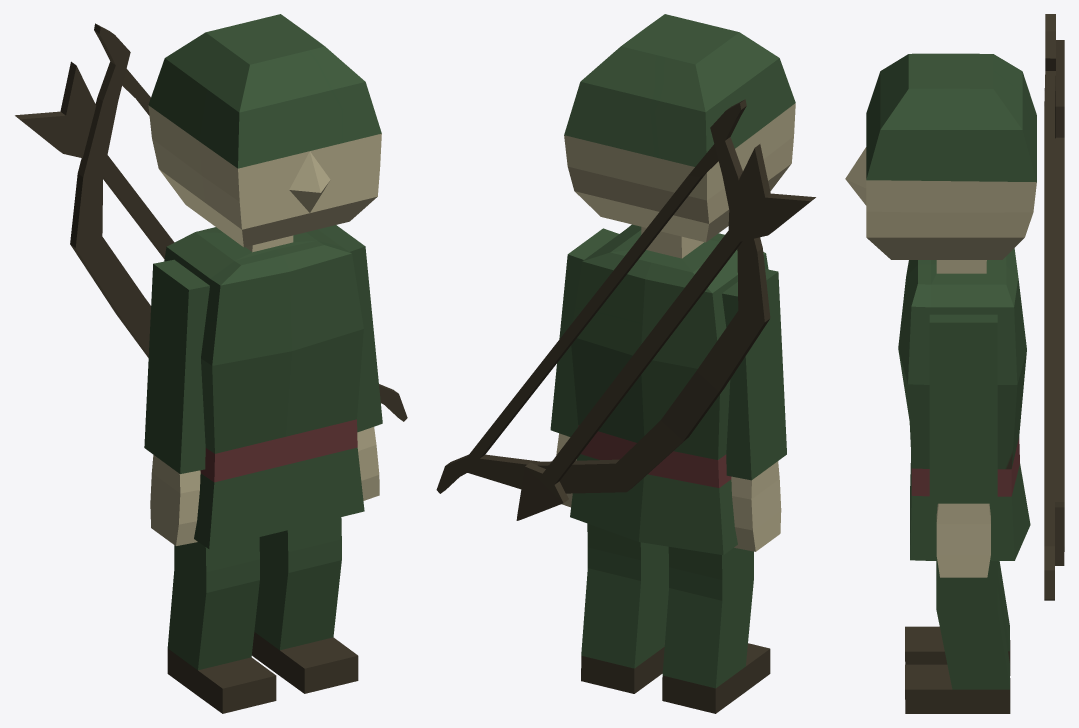
File: Range.fbx
3 renders of one model, left to right at view 1: azimuth 30°, elevation 25°; view 2: azimuth 150°, elevation 25°; view 3: azimuth 270°, elevation 25°, orthographic. The views are drawn at different scales.
Parts seen in each view (by area): view 1: Ranged, Arm_L.002, R_leg.003, R_leg.002, Bow, arrow, Arm_L.001; view 2: Ranged, Bow, R_leg.003, R_leg.002, Arm_L.002, arrow, Arm_L.001; view 3: Ranged, Arm_L.001, R_leg.002, Bow, arrow, R_leg.003.
Part boxes in pixels (box(x1,y1,x2,y2)): Ranged: box(148, 14, 381, 549); Arm_L.002: box(144, 259, 209, 545); R_leg.003: box(167, 537, 276, 713); R_leg.002: box(251, 517, 358, 693); Bow: box(70, 23, 407, 421); arrow: box(15, 61, 174, 258); Arm_L.001: box(318, 225, 382, 500); Ranged: box(564, 14, 795, 555); Bow: box(436, 99, 770, 493); R_leg.003: box(662, 546, 770, 713); R_leg.002: box(581, 523, 668, 693); Arm_L.002: box(722, 269, 786, 551); arrow: box(516, 144, 815, 520); Arm_L.001: box(550, 228, 618, 507); Ranged: box(845, 53, 1036, 560); Arm_L.001: box(929, 314, 997, 577); R_leg.002: box(905, 561, 1010, 713); Bow: box(1044, 14, 1055, 600); arrow: box(1055, 40, 1064, 565); R_leg.003: box(905, 561, 1010, 675).
Size of the model in its own units: 487 by 784 by 254.
Materials: 1 (1 with a texture image).
